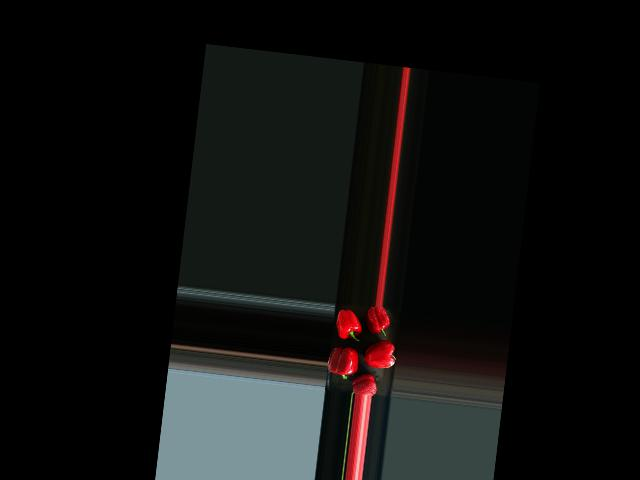bell_pepper: (349, 371, 383, 396)
